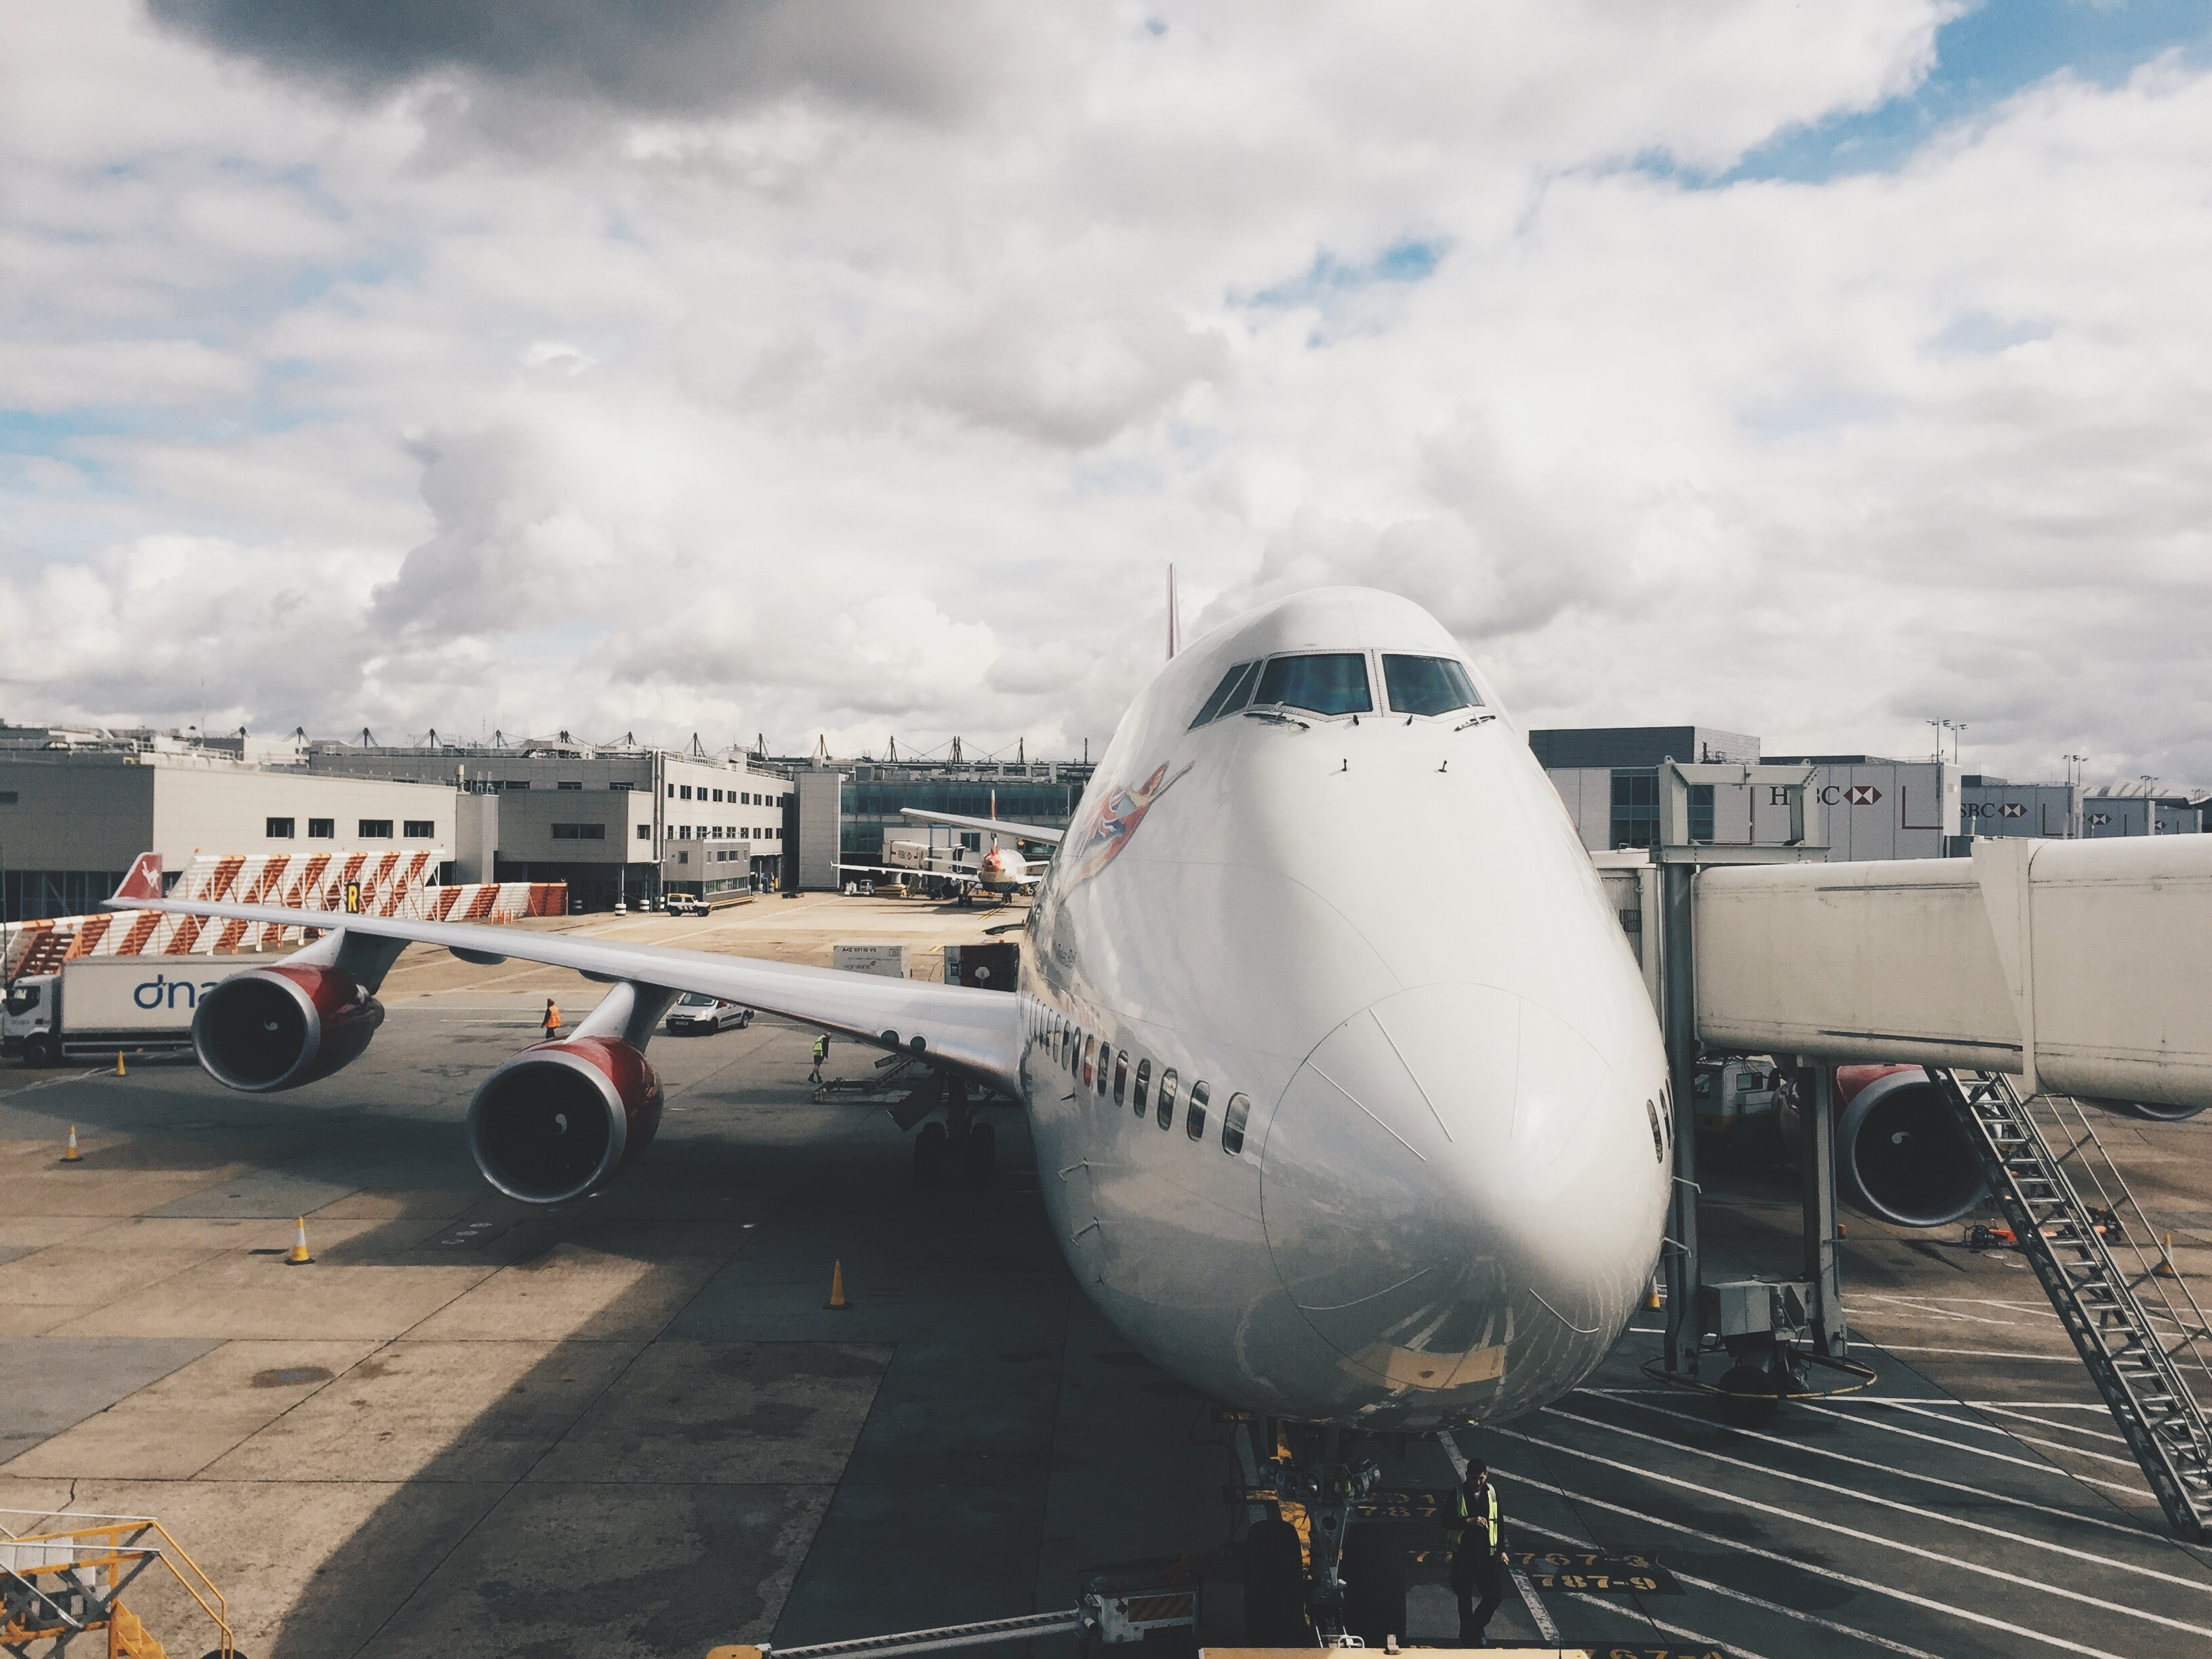airplane: (105, 523, 2212, 1438)
